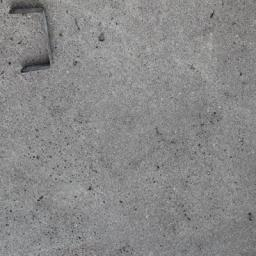FOD: (8, 5, 58, 78)
